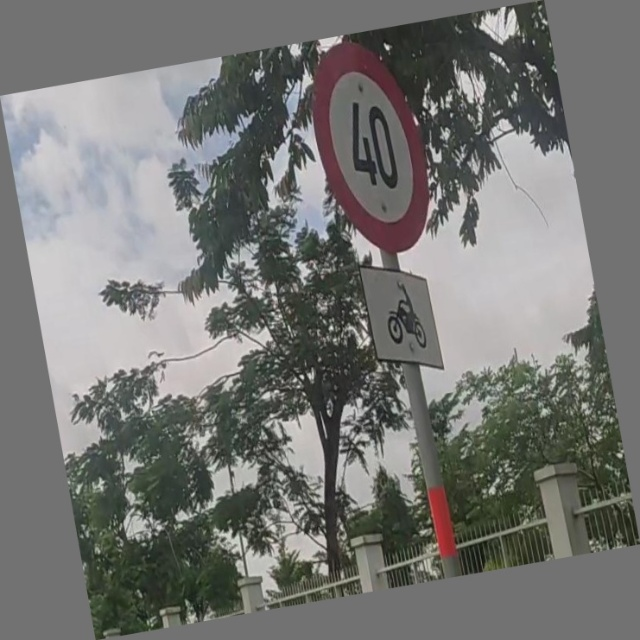P.127*40: (298, 28, 448, 267)
S.505a*Xe may: (353, 249, 454, 390)
